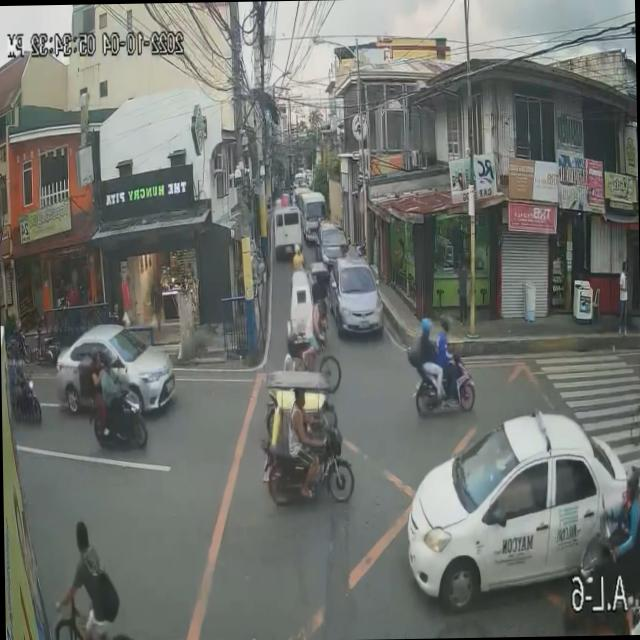full: (284, 332, 298, 355)
half: (624, 468, 640, 501), (438, 312, 452, 334), (420, 316, 432, 337)
